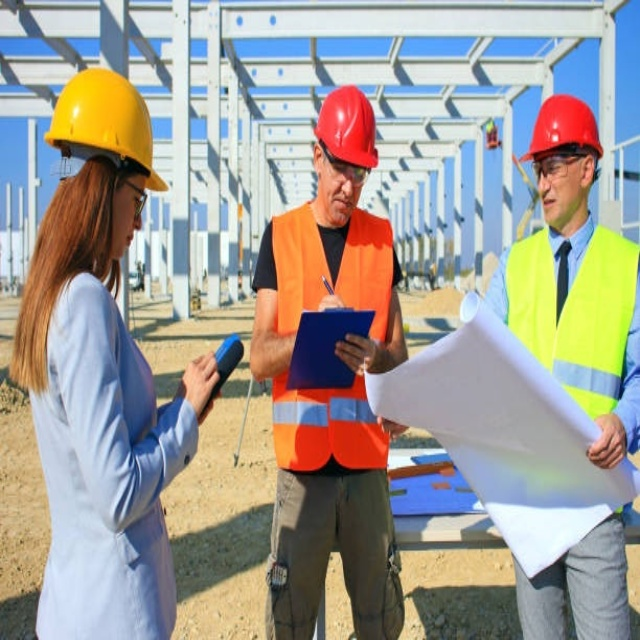Gafas: (317, 140, 373, 187), (531, 146, 593, 184), (121, 176, 151, 218)
Sin_guantes: (178, 350, 227, 420), (334, 329, 384, 377), (587, 411, 627, 469), (317, 293, 348, 312)
Sin_mascara: (325, 191, 355, 223), (117, 224, 141, 259), (541, 191, 563, 221)
